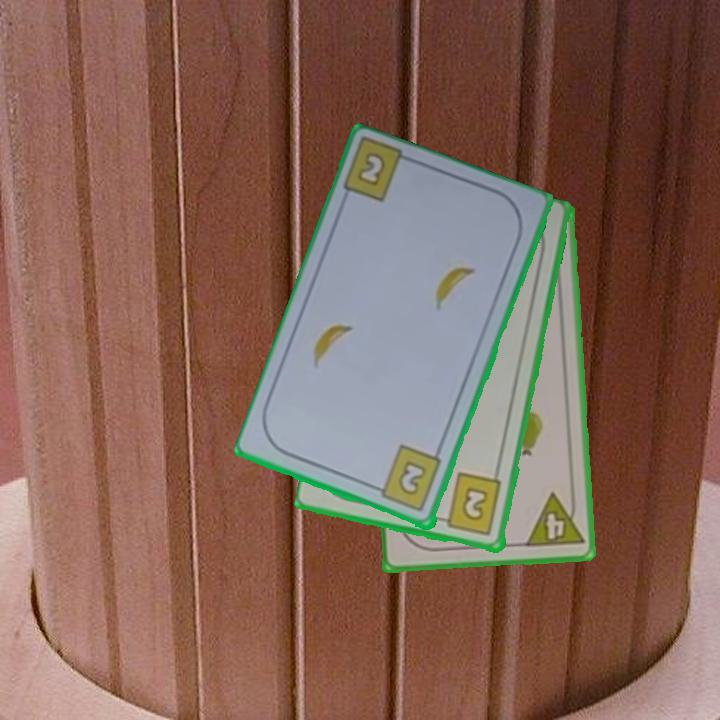2b: (370, 442, 445, 515), (435, 470, 505, 539), (357, 152, 386, 186)
4p: (521, 488, 587, 551)
